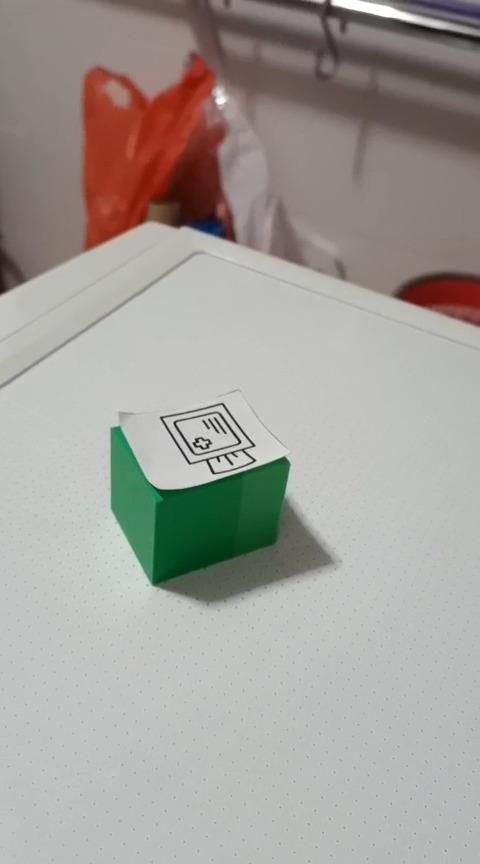Gauze: (108, 387, 291, 586)
